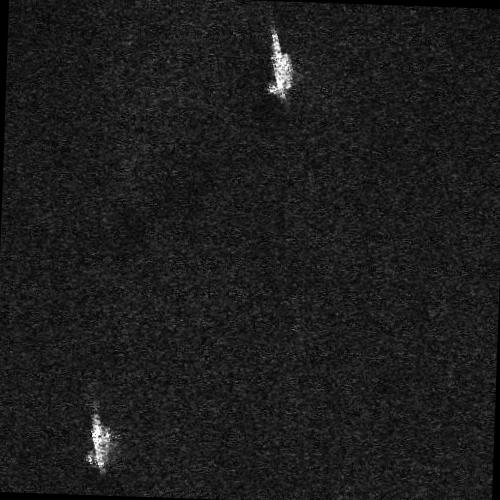ship: (267, 28, 294, 101), (84, 411, 110, 472)
